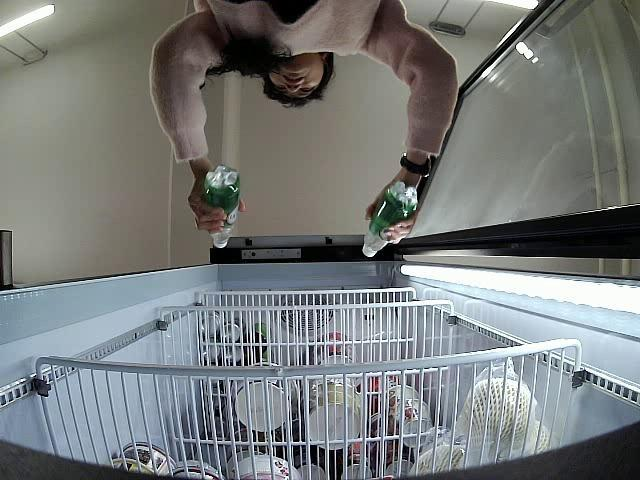18_trevi: (362, 180, 416, 258), (204, 166, 242, 250)
